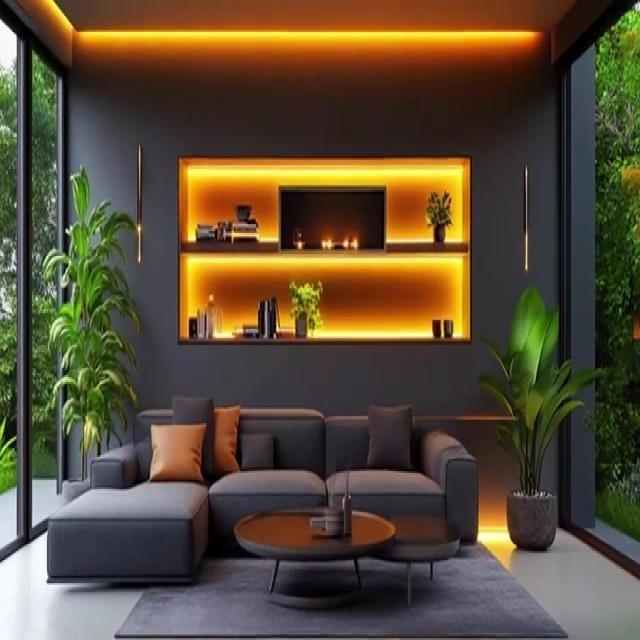obstacle: (46, 402, 479, 585), (177, 154, 471, 343), (233, 505, 396, 603)
